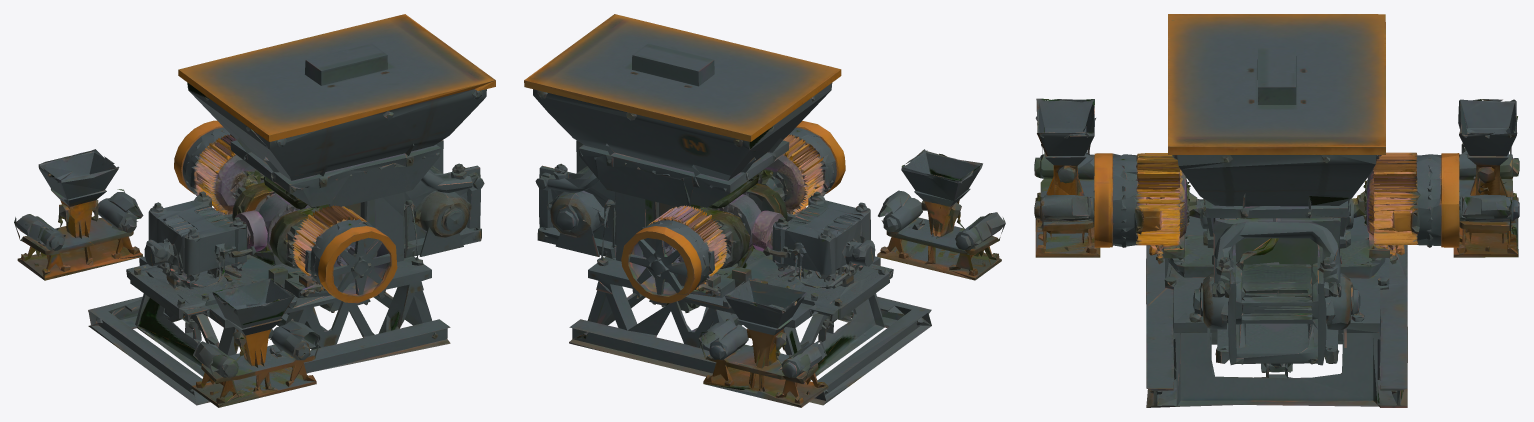
Rendered from voxel_machine.glb.
3 views of the same model, side by side, from view 1: azimuth 30°, elevation 25°; view 2: azimuth 150°, elevation 25°; view 3: azimuth 270°, elevation 25° (orthographic). The views are drawn at different scales.
Bounding box in the file's own units: 1.9 × 1.35 × 1.9.
1 material, 1 textured.
